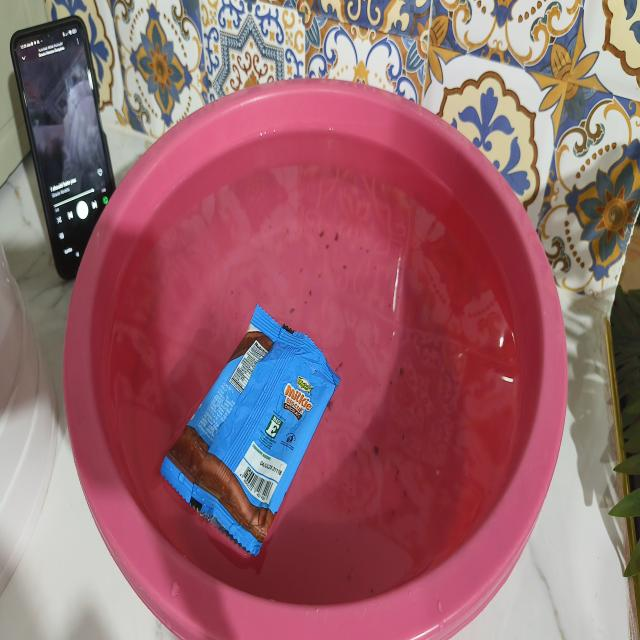Plastic Wrapper: (161, 305, 340, 556)
